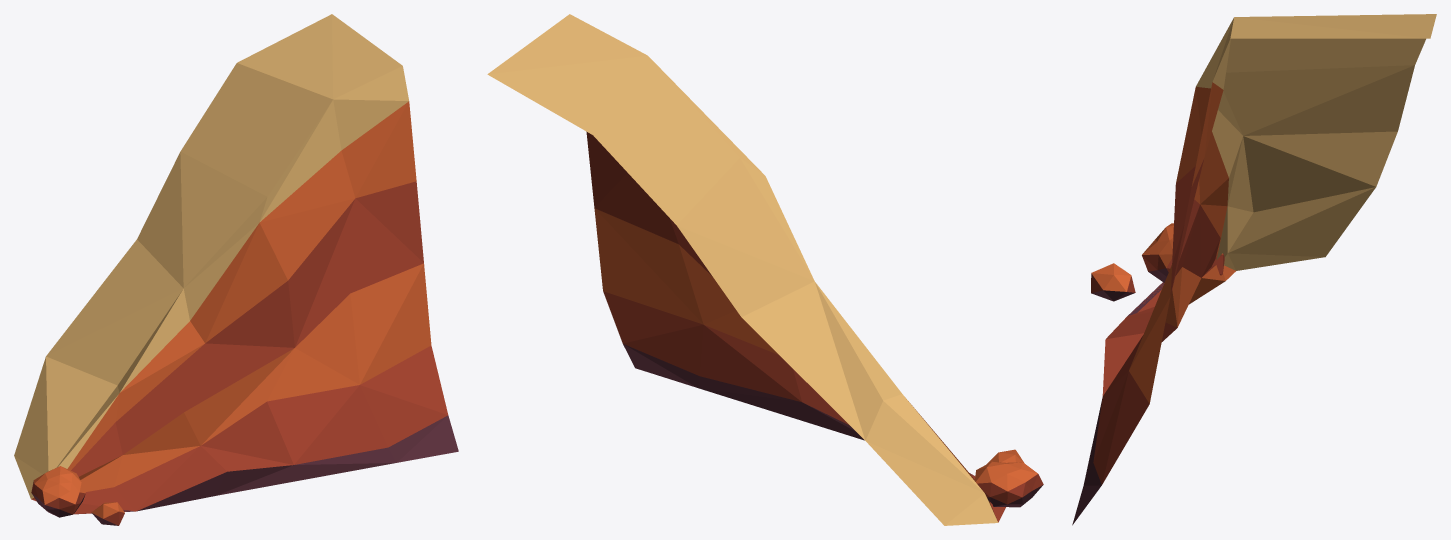
Rendered from Mtn_End_Mirrored.fbx.
3 views of the same model, side by side, from view 1: azimuth 30°, elevation 25°; view 2: azimuth 150°, elevation 25°; view 3: azimuth 270°, elevation 25° (orthographic). The views are drawn at different scales.
Visible parts, largest first — view 1: Mtn_End_Mirrored; view 2: Mtn_End_Mirrored; view 3: Mtn_End_Mirrored.
Boxes of the visible parts, x1,y1,x2,y2 form: Mtn_End_Mirrored: [14, 14, 458, 525]; Mtn_End_Mirrored: [487, 14, 1043, 525]; Mtn_End_Mirrored: [1072, 14, 1436, 525].
Size of the model in its own units: 20.89 by 18 by 12.22.
